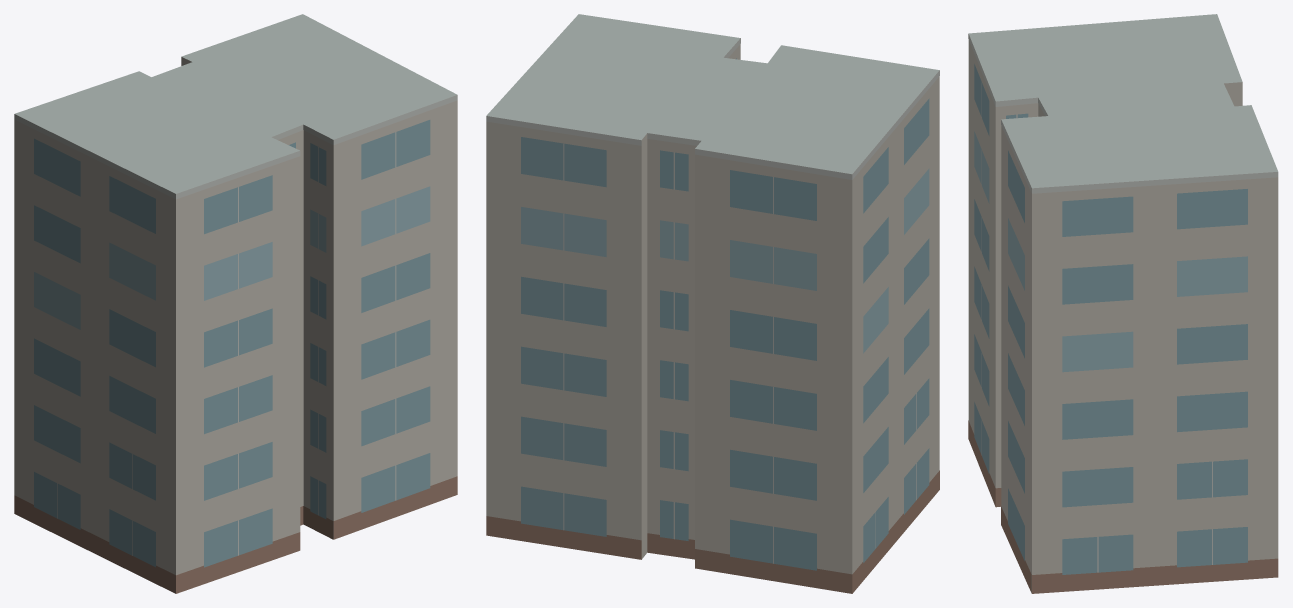
File: survey-upis-32729381.glb
The picture shows the model from 3 angles, left to right: view 1: azimuth 30°, elevation 25°; view 2: azimuth 150°, elevation 25°; view 3: azimuth 270°, elevation 25°; orthographic projection. The views are drawn at different scales.
Parts seen in each view (by area): view 1: survey-upis-32729381.tmp; view 2: survey-upis-32729381.tmp; view 3: survey-upis-32729381.tmp.
Part boxes in pixels (x1,y1,x2,y2): survey-upis-32729381.tmp: (14,14,457,593); survey-upis-32729381.tmp: (486,14,939,593); survey-upis-32729381.tmp: (968,14,1278,593).
Size of the model in its own units: 16.5 by 17.9 by 12.4.
